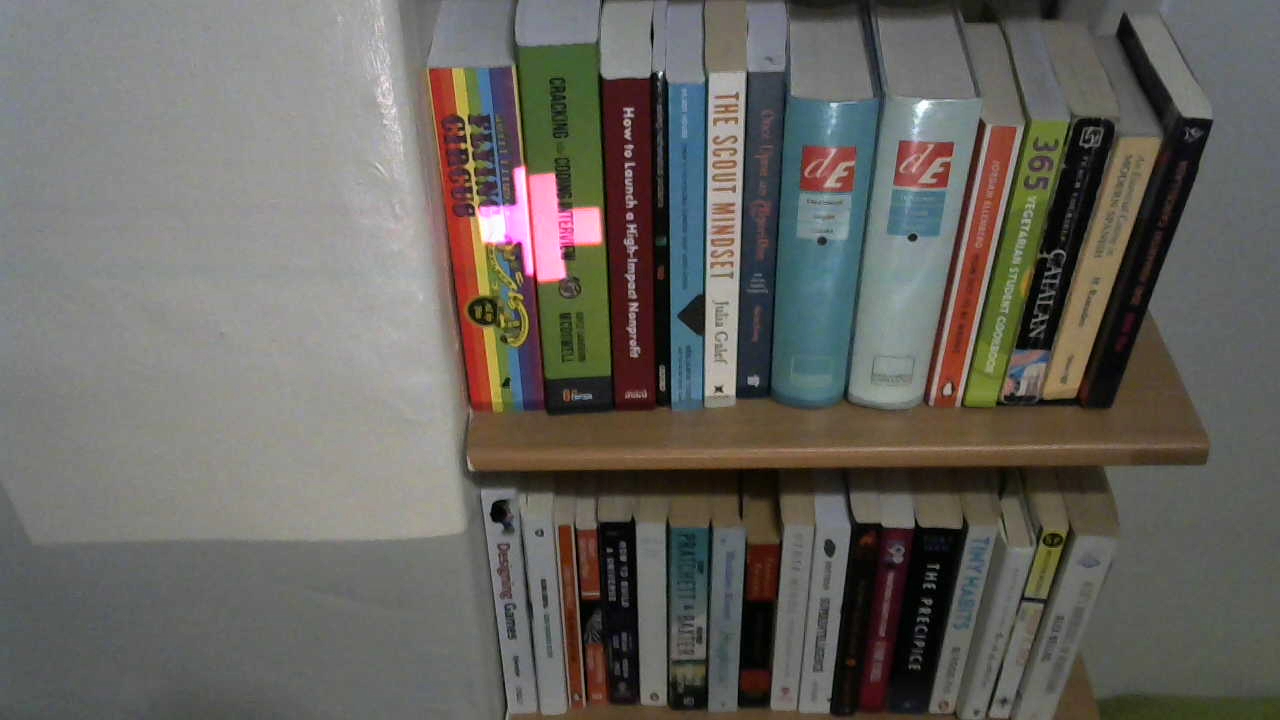calibration_symbol: (475, 164, 608, 284)
